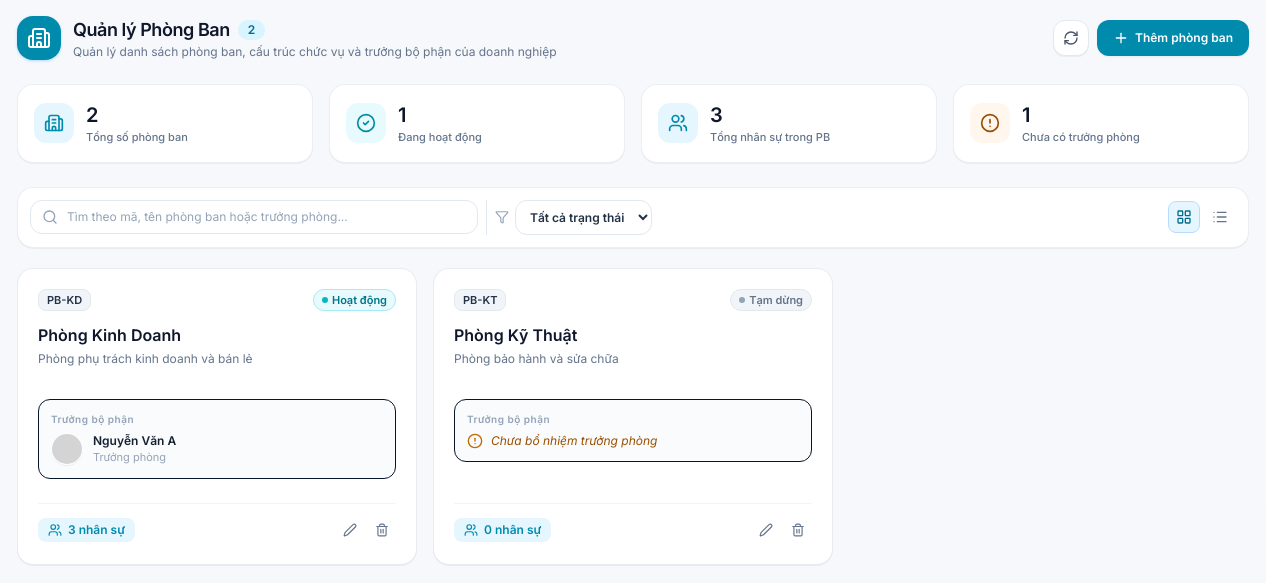
DepartmentManagementTab › cho phép tìm kiếm phòng ban theo tên hoặc mã
The image size is (1266, 583).
Expected: the heading "Phòng Kinh Doanh" is shown, [38,325,181,345]
Type "PB-KT" into the field with placeholder "Tìm theo mã, tên phòng ban hoặc trưởng phòng..." at (254, 217), box [30,200,478,234]
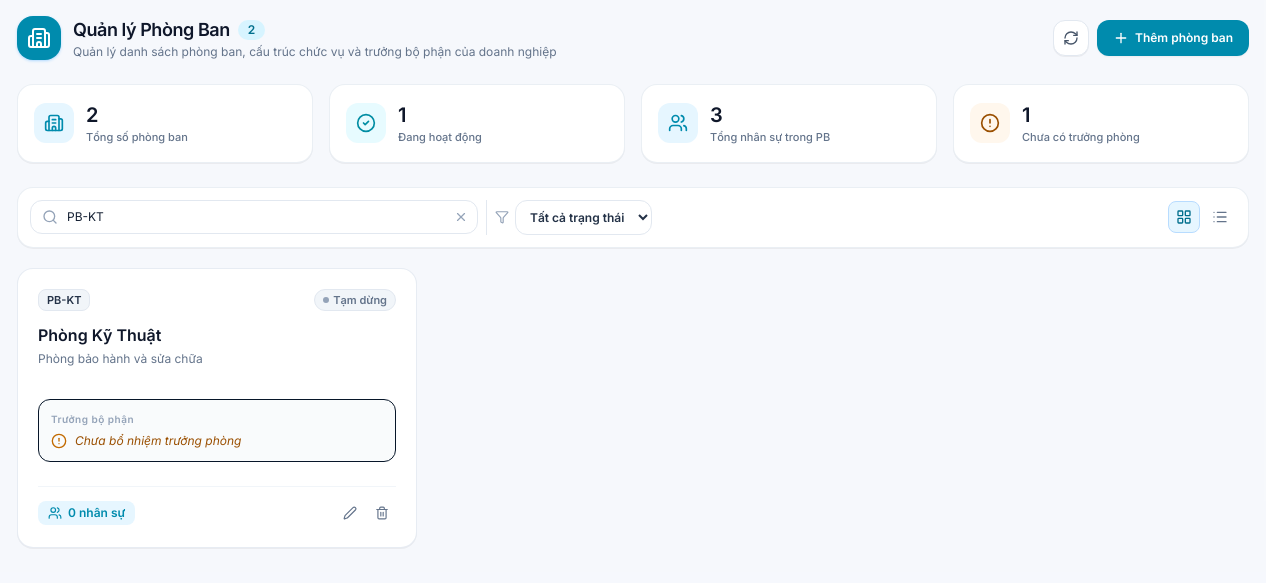
Expected: the heading "Phòng Kỹ Thuật" is shown, [38,325,161,345]
Expected: the heading "Phòng Kinh Doanh" is gone
